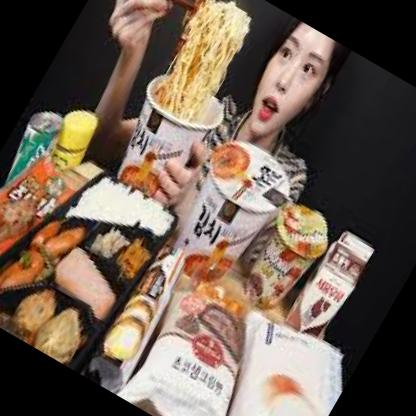Ramen: (155, 131, 299, 299), (96, 62, 236, 221), (238, 199, 341, 320)
